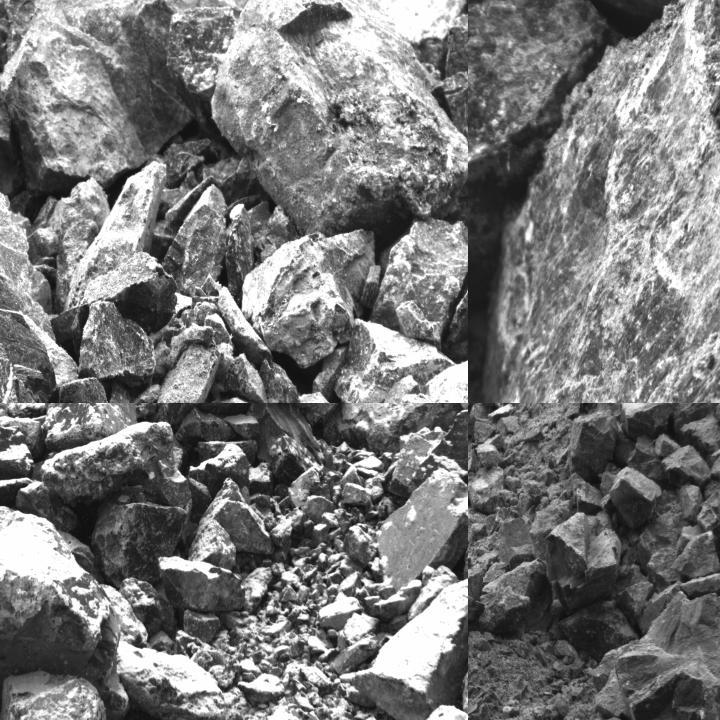stone: (473, 0, 719, 402), (210, 0, 467, 240), (468, 0, 623, 310), (0, 0, 195, 198), (0, 501, 127, 713), (241, 230, 376, 369), (0, 175, 80, 402), (348, 574, 467, 719), (587, 591, 719, 719), (63, 161, 167, 313), (40, 424, 191, 512), (370, 216, 467, 352), (376, 468, 467, 587), (333, 318, 459, 402), (111, 634, 232, 719), (80, 252, 178, 335), (161, 184, 227, 298), (93, 503, 188, 582), (78, 300, 156, 388), (166, 6, 242, 94), (202, 476, 274, 556), (330, 403, 467, 443), (133, 341, 219, 402), (0, 670, 107, 719), (558, 599, 638, 664), (482, 558, 552, 632), (252, 403, 326, 471), (159, 557, 245, 615), (41, 403, 138, 448), (157, 403, 308, 428), (417, 408, 467, 483), (567, 411, 619, 481), (609, 466, 661, 530), (388, 433, 442, 494), (618, 403, 681, 441), (670, 530, 719, 578), (188, 521, 236, 569), (662, 444, 712, 488), (224, 353, 268, 402), (479, 589, 529, 632), (178, 408, 232, 445), (679, 414, 719, 458), (0, 427, 35, 477), (468, 465, 504, 512), (53, 376, 109, 402), (468, 577, 488, 647), (344, 526, 378, 567), (680, 568, 719, 600), (676, 484, 703, 521), (226, 413, 262, 438), (342, 483, 374, 508), (6, 403, 71, 415), (509, 544, 534, 570), (476, 443, 500, 469), (654, 434, 681, 457), (474, 420, 497, 444), (297, 391, 347, 402), (711, 453, 719, 481)
